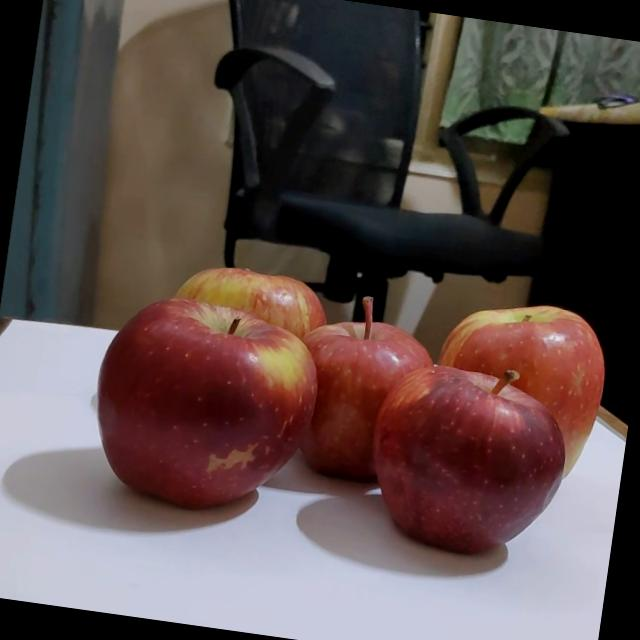apple: (94, 282, 350, 522), (380, 352, 598, 562), (280, 280, 456, 486), (435, 284, 624, 461), (158, 248, 346, 396)
